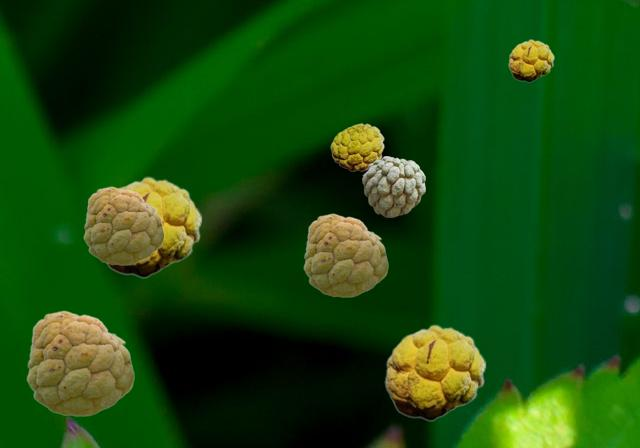atis: (26, 310, 133, 415), (384, 324, 485, 420), (106, 176, 201, 277), (303, 213, 387, 296), (83, 186, 163, 264), (362, 156, 424, 216), (330, 123, 383, 170), (508, 39, 553, 81)
